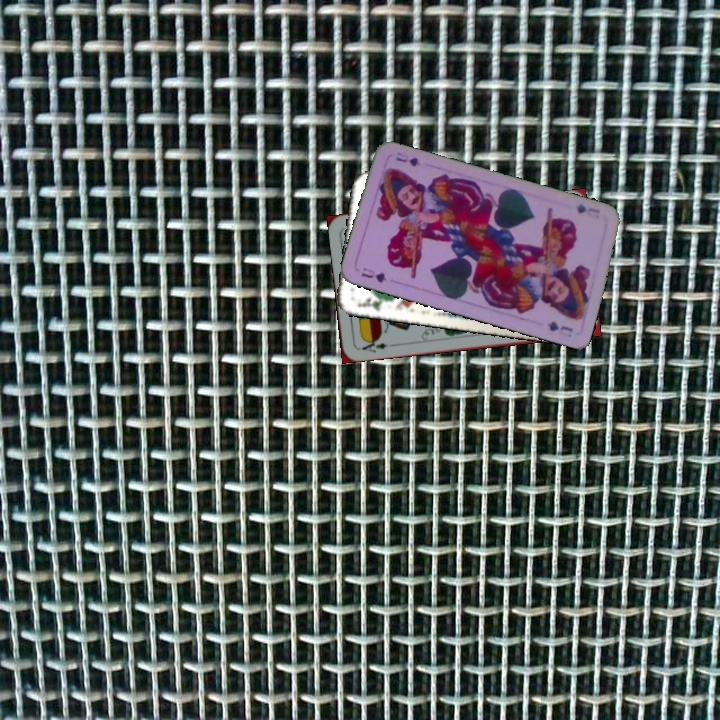EA: (358, 335, 396, 355)
GK: (354, 294, 392, 313)
GU: (357, 263, 389, 285), (571, 199, 603, 218)
